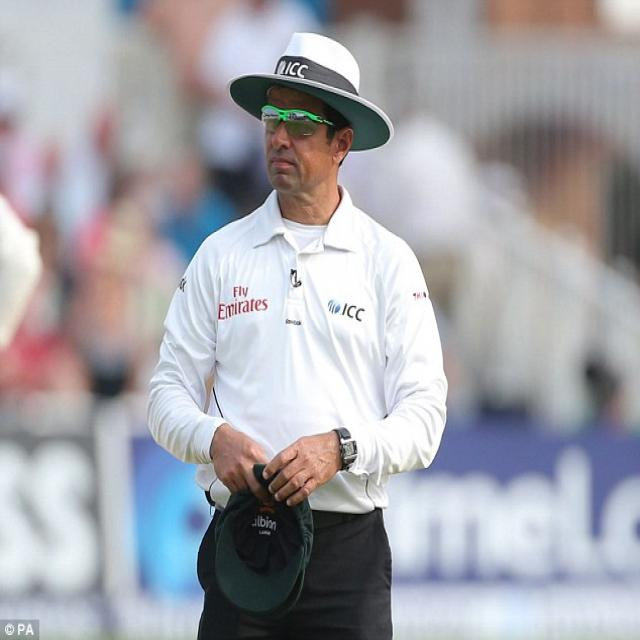No_Action: (138, 16, 456, 640)
